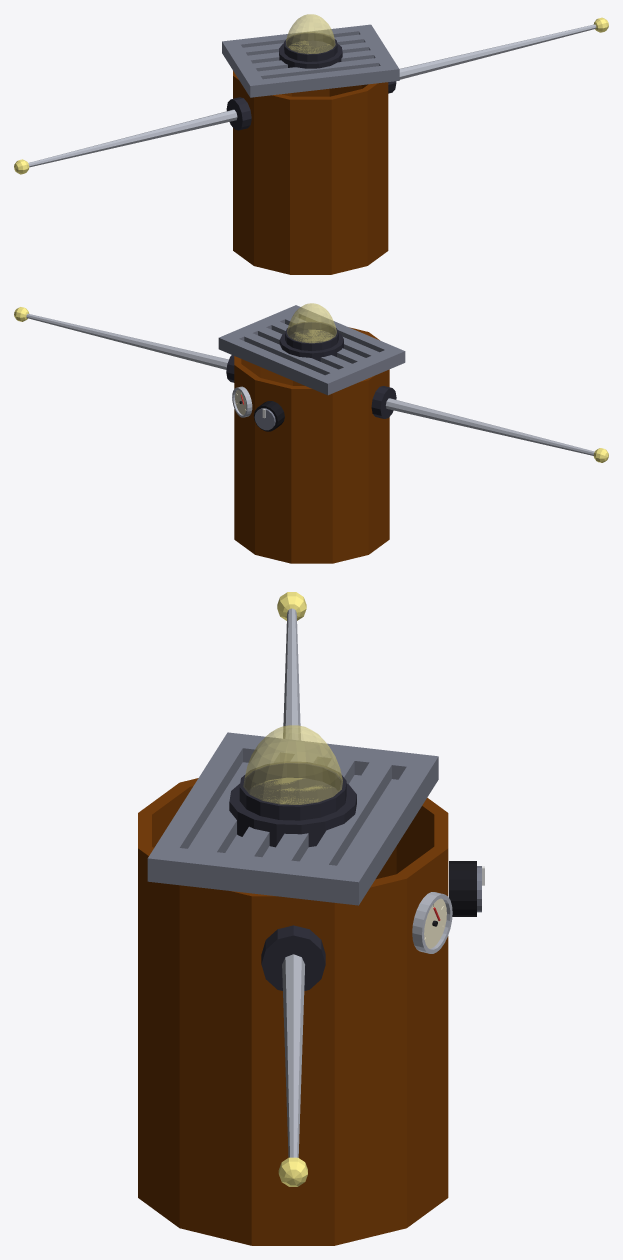
Rendered from barrel-bot.obj.
3 renders of one model, top to bottom at view 1: azimuth 30°, elevation 25°; view 2: azimuth 150°, elevation 25°; view 3: azimuth 270°, elevation 25°, orthographic. The views are drawn at different scales.
Size of the model in its own units: 1.06 by 0.388 by 0.2699.
Materials: 4 (4 with a texture image).
